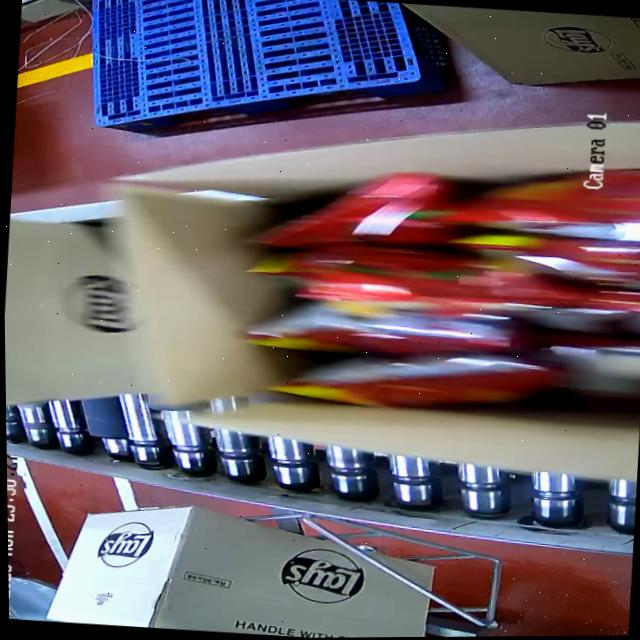MASALA: (217, 160, 640, 430)
